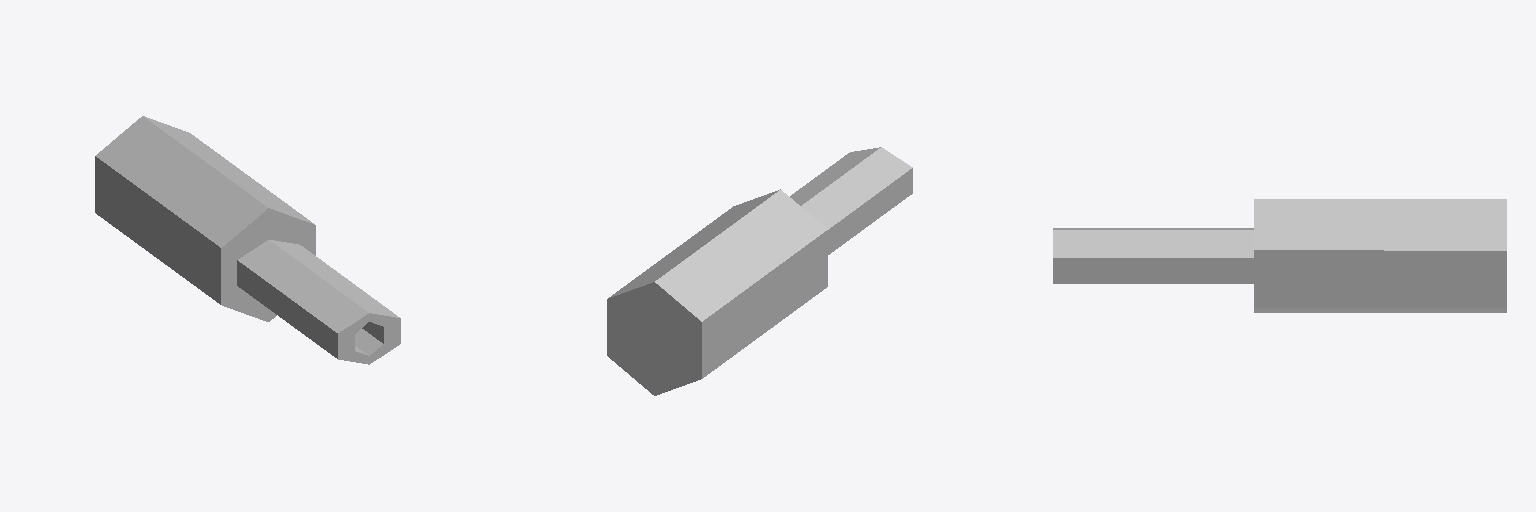
Rendered from lasergun.obj.
3 views of the same model, side by side, from view 1: azimuth 30°, elevation 25°; view 2: azimuth 150°, elevation 25°; view 3: azimuth 270°, elevation 25° (orthographic).
Visible parts, largest first — view 1: Laser; view 2: Laser; view 3: Laser.
Part boxes in pixels (x1,y1,x2,y2): Laser: (95,116,400,364); Laser: (607,147,912,395); Laser: (1053,199,1506,312).
Size of the model in its own units: 0.866 by 1 by 3.6.